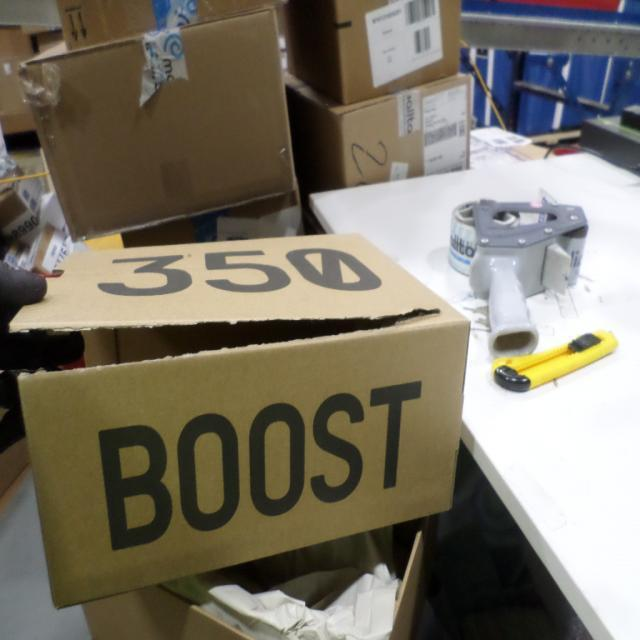hole: (12, 307, 444, 391)
